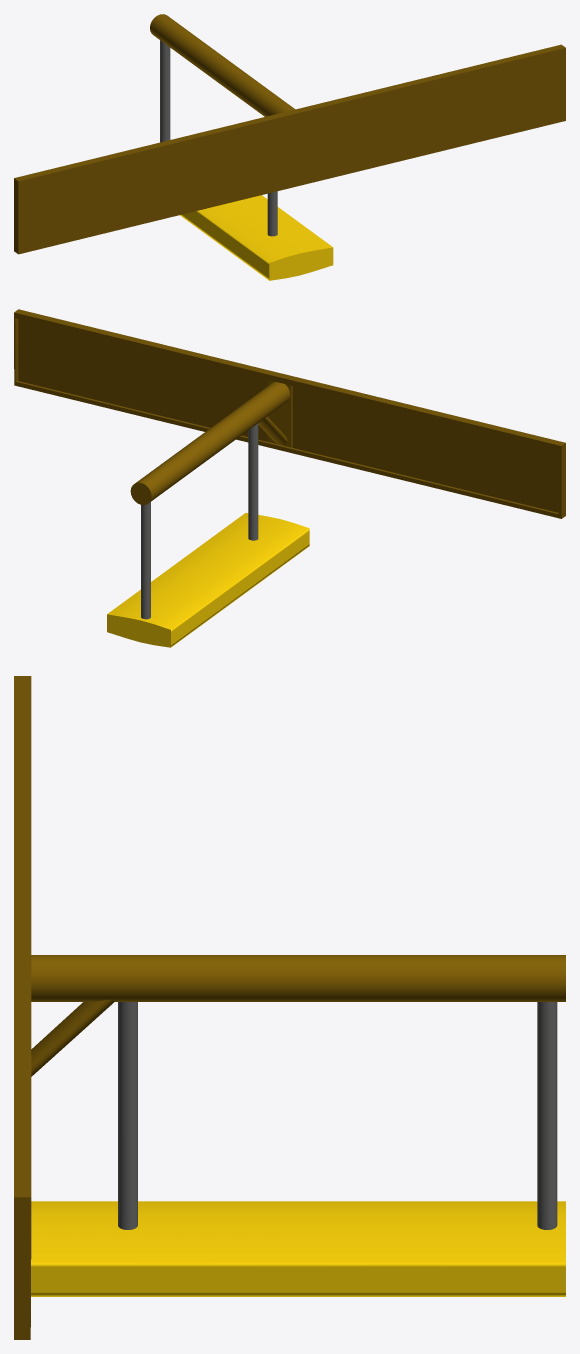
The model's file is columpio.fbx.
3 renders of one model, top to bottom at view 1: azimuth 30°, elevation 25°; view 2: azimuth 150°, elevation 25°; view 3: azimuth 270°, elevation 25°, orthographic. The views are drawn at different scales.
Parts seen in each view (by area): view 1: pasted__pCube4, pasted__pCylinder3, pCylinder1, pasted__pCylinder2, pasted__pasted__pCylinder1; view 2: pasted__pCube4, pasted__pCylinder3, pCylinder1, pasted__pasted__pCylinder1, pasted__pCylinder2, pCube4; view 3: pasted__pCylinder3, pCylinder1, pasted__pCube4, pasted__pCylinder2, pasted__pasted__pCylinder1, pasted__pCylinder1.
Part boxes in pixels (x1=…): pasted__pCube4: x1=14, y1=44, x2=565, y2=254; pasted__pCylinder3: x1=180, y1=195, x2=333, y2=280; pCylinder1: x1=150, y1=14, x2=295, y2=116; pasted__pCylinder2: x1=160, y1=40, x2=170, y2=142; pasted__pasted__pCylinder1: x1=267, y1=191, x2=277, y2=236; pasted__pCube4: x1=14, y1=309, x2=565, y2=518; pasted__pCylinder3: x1=107, y1=513, x2=309, y2=647; pCylinder1: x1=130, y1=381, x2=290, y2=505; pasted__pasted__pCylinder1: x1=248, y1=423, x2=258, y2=540; pasted__pCylinder2: x1=141, y1=502, x2=150, y2=619; pCube4: x1=268, y1=380, x2=292, y2=447; pasted__pCylinder3: x1=31, y1=1201, x2=565, y2=1296; pCylinder1: x1=31, y1=955, x2=565, y2=1001; pasted__pCube4: x1=14, y1=676, x2=31, y2=1339; pasted__pCylinder2: x1=537, y1=1002, x2=557, y2=1229; pasted__pasted__pCylinder1: x1=118, y1=1002, x2=137, y2=1229; pasted__pCylinder1: x1=31, y1=999, x2=114, y2=1076.
Bounding box in the file's own units: 17.35 × 5.01 × 7.76.
